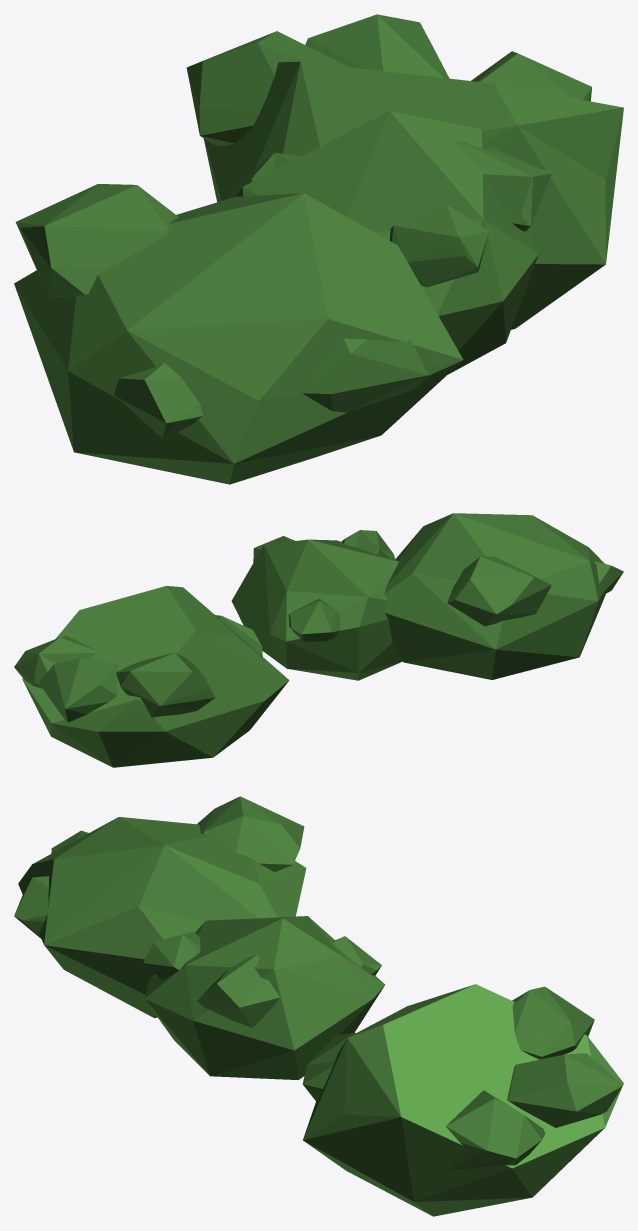
The model's file is Leaves_B.glb.
3 views of the same model, one above another, from view 1: azimuth 30°, elevation 25°; view 2: azimuth 150°, elevation 25°; view 3: azimuth 270°, elevation 25° (orthographic). The views are drawn at different scales.
Parts seen in each view (by area): view 1: Leaves; view 2: Leaves; view 3: Leaves.
Part boxes in pixels (<box>): Leaves: <box>14,14,623,484</box>; Leaves: <box>14,513,623,767</box>; Leaves: <box>14,796,623,1216</box>.
Size of the model in its own units: 22.11 by 10.46 by 22.55.
